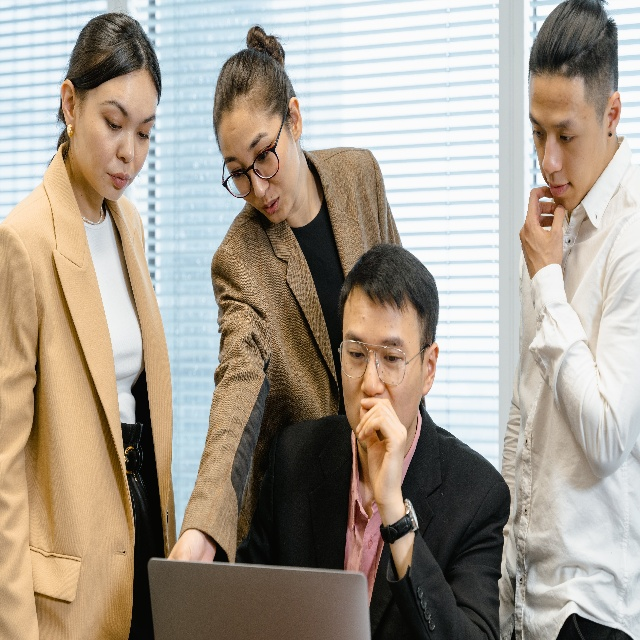Gafas: (220, 104, 291, 200), (338, 338, 431, 388)
Sin_guantes: (354, 395, 408, 505), (517, 184, 567, 280)
